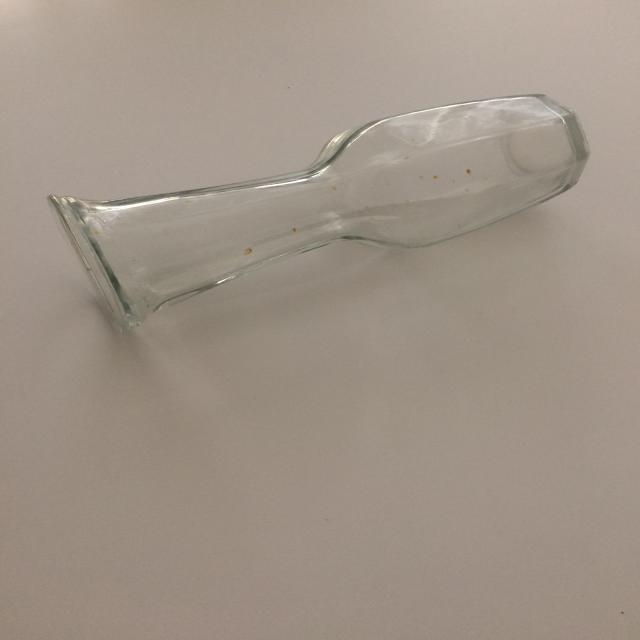glass: (38, 74, 595, 352)
